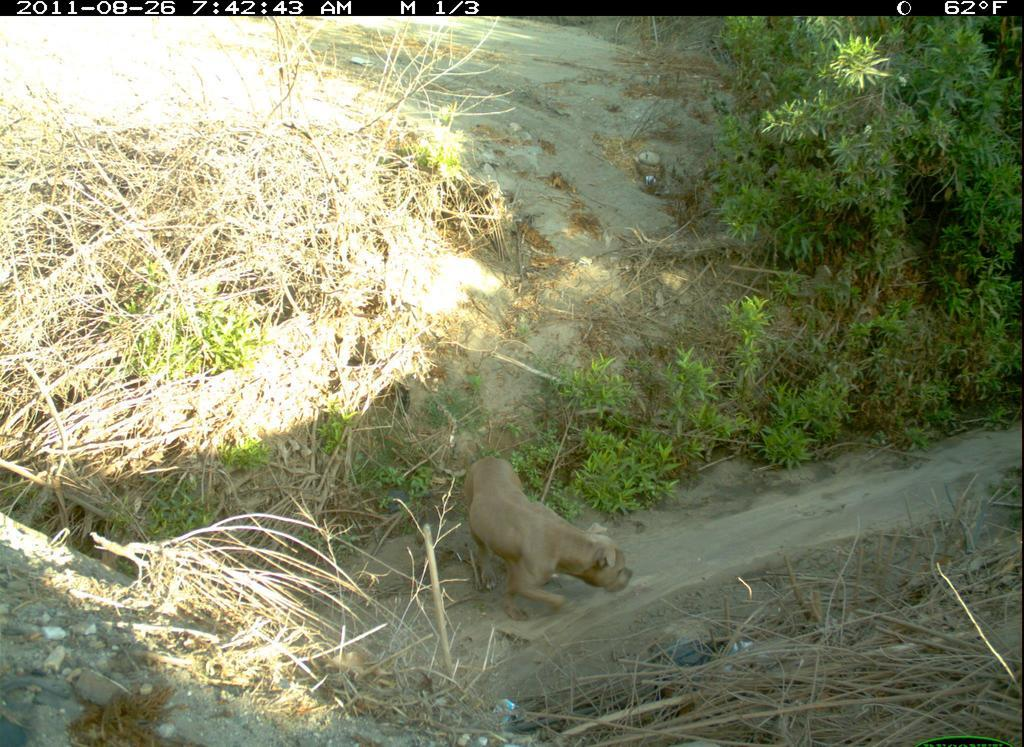dog: (452, 443, 646, 623)
